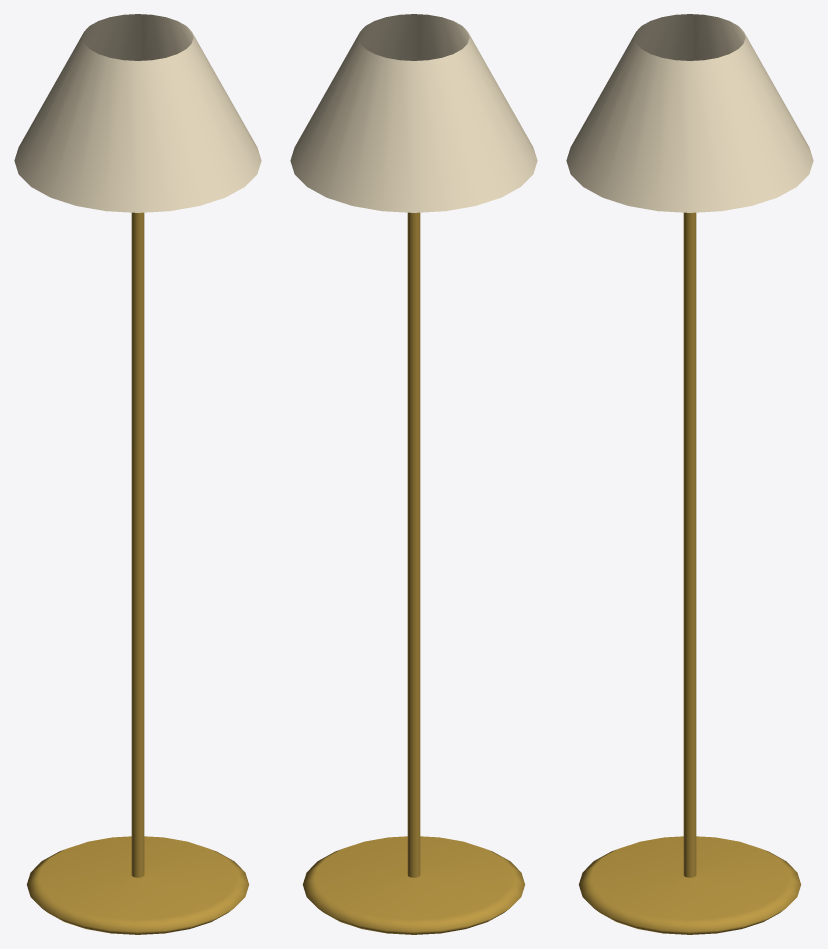
The model's file is ATL-FLP-std.glb.
3 renders of one model, left to right at view 1: azimuth 30°, elevation 25°; view 2: azimuth 150°, elevation 25°; view 3: azimuth 270°, elevation 25°, orthographic.
Visible parts, largest first — view 1: ATL-FLP-std; view 2: ATL-FLP-std; view 3: ATL-FLP-std.
Part boxes in pixels (x1,y1,x2,y2): ATL-FLP-std: (14,14,261,934); ATL-FLP-std: (290,14,537,934); ATL-FLP-std: (566,14,813,934).
Size of the model in its own units: 0.42 by 1.6 by 0.42.
